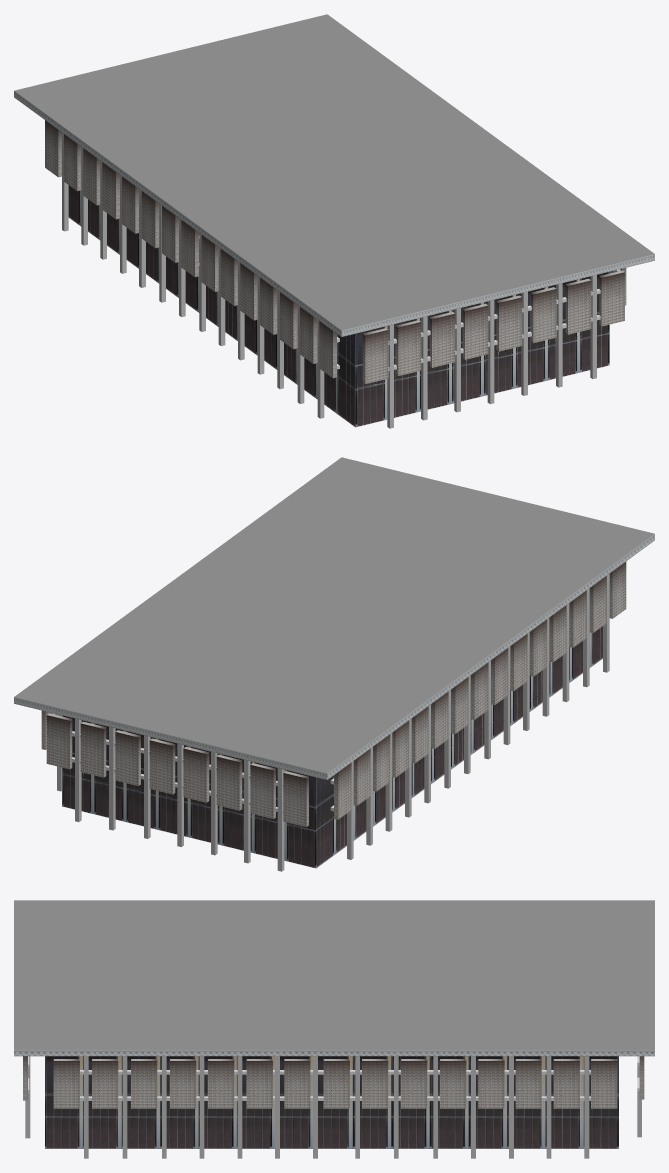
The model's file is Hayden.FBX.
3 views of the same model, one above another, from view 1: azimuth 30°, elevation 25°; view 2: azimuth 150°, elevation 25°; view 3: azimuth 270°, elevation 25° (orthographic). The views are drawn at different scales.
Visible parts, largest first — view 1: Box002, Box001, Box083, Box085, Box089, Box086, Box087, Box084, Box088, Box090, Box051, Box046 (+20 smaller); view 2: Box002, Box001, Box082, Box081, Box079, Box077, Box078, Box076, Box075, Box080, Box049, Box056 (+20 smaller); view 3: Box002, Box001, Box060, Box061, Box062, Box063, Box064, Box065, Box066, Box067, Box068, Box069 (+21 smaller).
Part boxes in pixels (x1,y1,x2,y2): Box002: (14,14,654,336); Box001: (68,185,609,427); Box083: (362,328,388,384); Box085: (429,312,455,367); Box089: (565,278,591,334); Box086: (462,303,488,359); Box087: (496,295,522,351); Box084: (395,320,421,376); Box088: (530,287,556,343); Box090: (599,270,624,326); Box051: (141,191,159,248); Box046: (83,148,100,205); Box002: (14,457,654,779); Box001: (62,626,602,868); Box082: (46,713,72,769); Box081: (80,721,106,777); Box079: (149,738,175,794); Box077: (216,755,242,810); Box078: (183,746,209,802); Box076: (250,763,275,818); Box075: (283,771,308,826); Box080: (115,730,140,785); Box049: (470,662,488,719); Box056: (529,619,547,676); Box002: (14,900,654,1056); Box001: (45,1056,618,1148); Box060: (323,1059,349,1108); Box061: (284,1059,310,1108); Box062: (246,1059,272,1108); Box063: (208,1059,234,1108); Box064: (170,1059,196,1108); Box065: (131,1059,157,1108); Box066: (92,1059,118,1108); Box067: (53,1059,79,1108); Box068: (362,1059,388,1108); Box069: (401,1059,427,1108).
Size of the model in its own units: 74 by 26.11 by 134.
